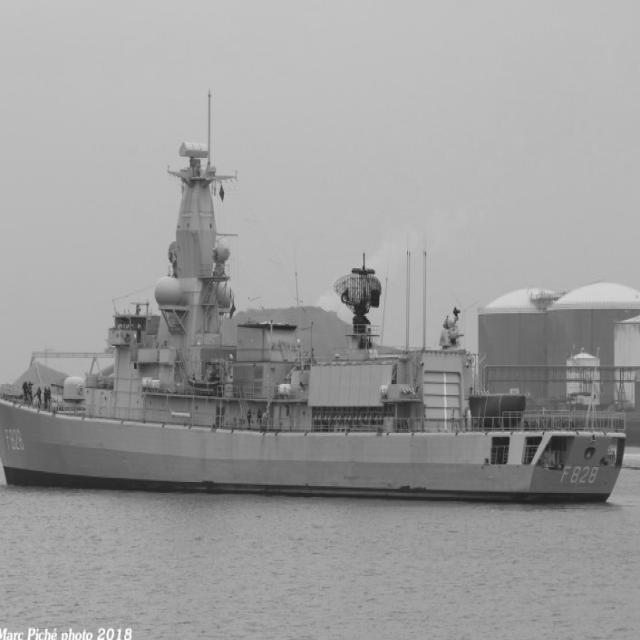Fragata: (1, 74, 629, 509)
